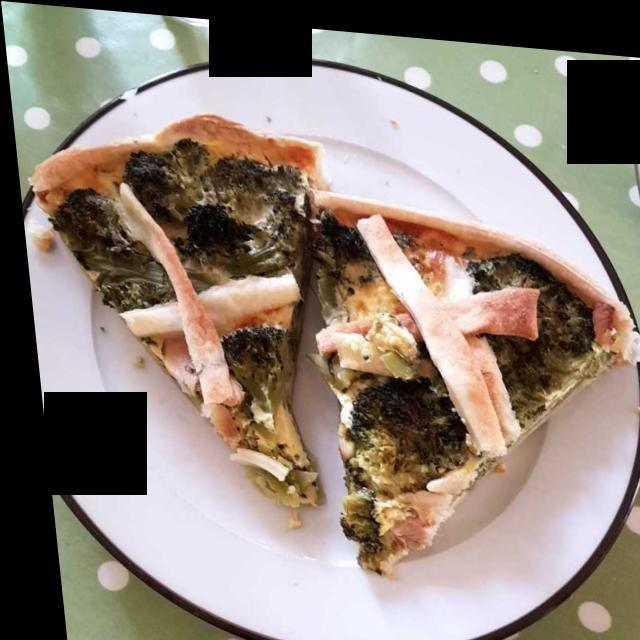vegetables-stuffed-pie: (143, 145, 617, 557)
